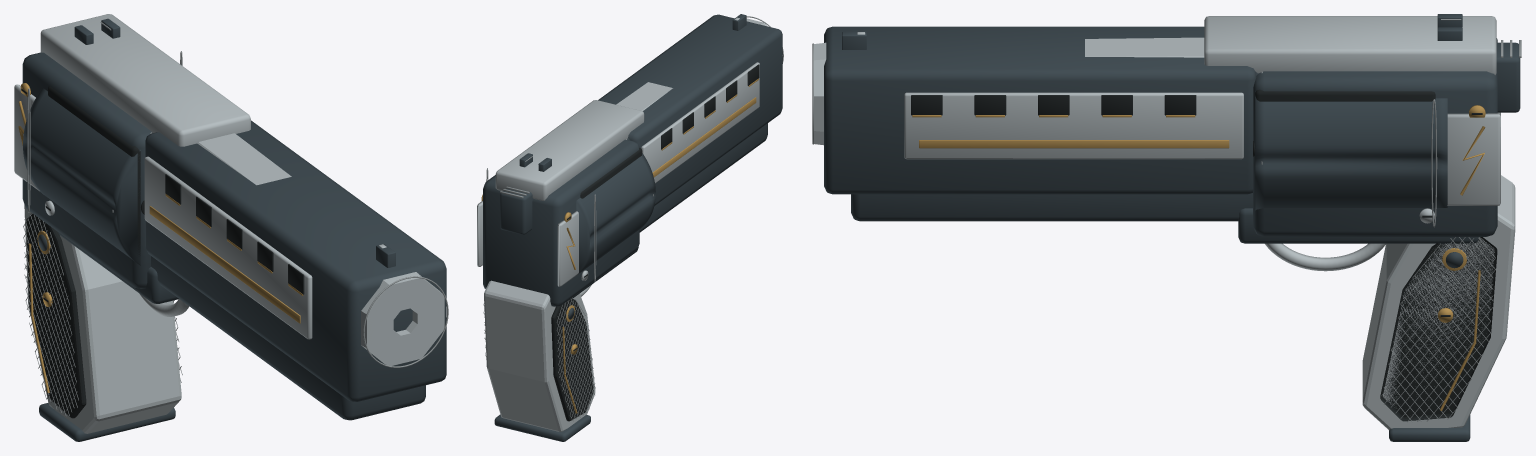
The model's file is power-gun.glb.
3 renders of one model, left to right at view 1: azimuth 30°, elevation 25°; view 2: azimuth 150°, elevation 25°; view 3: azimuth 270°, elevation 25°, orthographic. The views are drawn at different scales.
Visible parts, largest first — view 1: power-gun / Deep blued steel, power-gun / Satin machined nickel, power-gun / Recess and rubber, power-gun / Fine polished highlights, power-gun / Antique engraved brass; view 2: power-gun / Deep blued steel, power-gun / Satin machined nickel, power-gun / Recess and rubber, power-gun / Fine polished highlights, power-gun / Antique engraved brass; view 3: power-gun / Deep blued steel, power-gun / Satin machined nickel, power-gun / Recess and rubber, power-gun / Fine polished highlights, power-gun / Antique engraved brass.
Part boxes in pixels (x1,y1,x2,y2): power-gun / Deep blued steel: [22, 18, 446, 441]; power-gun / Satin machined nickel: [14, 14, 444, 433]; power-gun / Recess and rubber: [21, 86, 304, 418]; power-gun / Fine polished highlights: [23, 22, 448, 415]; power-gun / Antique engraved brass: [18, 83, 303, 393]; power-gun / Deep blued steel: [483, 14, 782, 441]; power-gun / Satin machined nickel: [477, 17, 767, 431]; power-gun / Recess and rubber: [551, 64, 759, 421]; power-gun / Fine polished highlights: [483, 16, 783, 420]; power-gun / Antique engraved brass: [481, 78, 758, 413]; power-gun / Deep blued steel: [824, 14, 1520, 441]; power-gun / Satin machined nickel: [814, 16, 1515, 430]; power-gun / Recess and rubber: [911, 89, 1497, 421]; power-gun / Fine polished highlights: [812, 19, 1521, 421]; power-gun / Antique engraved brass: [912, 105, 1485, 410].
Size of the model in its own units: 0.0809 by 0.193 by 0.3131.
